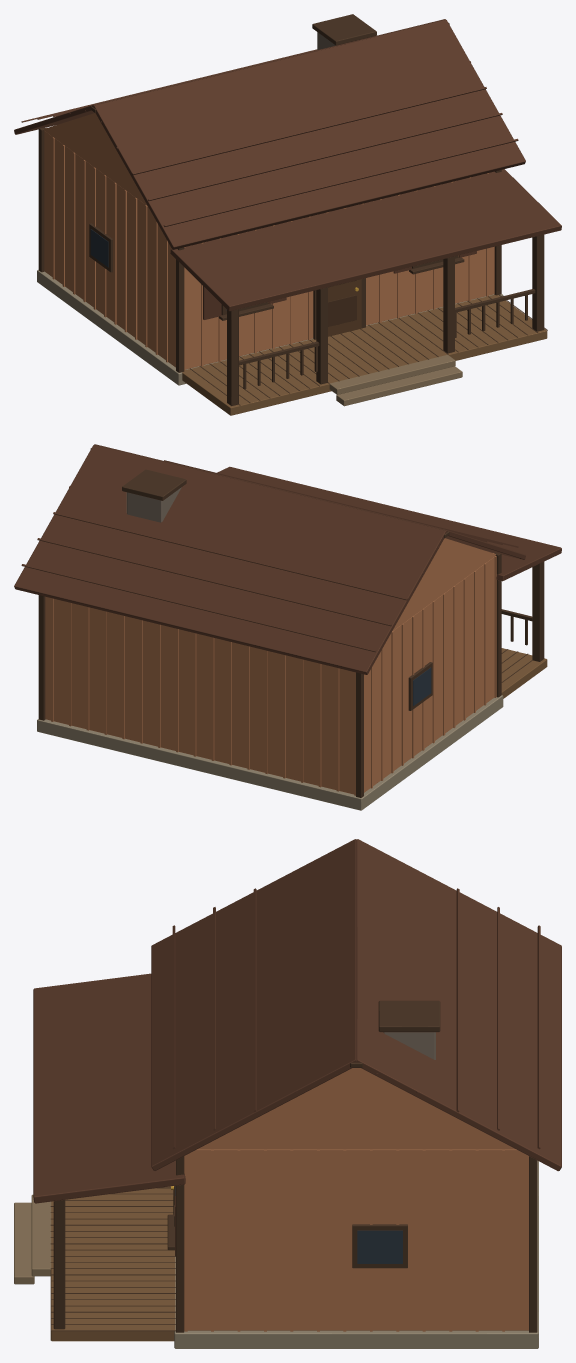
File: SuptHouse.glb
3 views of the same model, one above another, from view 1: azimuth 30°, elevation 25°; view 2: azimuth 150°, elevation 25°; view 3: azimuth 270°, elevation 25° (orthographic). The views are drawn at different scales.
Visible parts, largest first — view 1: SuptHouse.001; view 2: SuptHouse.001; view 3: SuptHouse.001.
Boxes of the visible parts, x1=… form: SuptHouse.001: x1=14, y1=14, x2=561, y2=415; SuptHouse.001: x1=14, y1=444, x2=561, y2=810; SuptHouse.001: x1=14, y1=839, x2=561, y2=1348.
Size of the model in its own units: 8.95 by 5.6 by 9.32.
